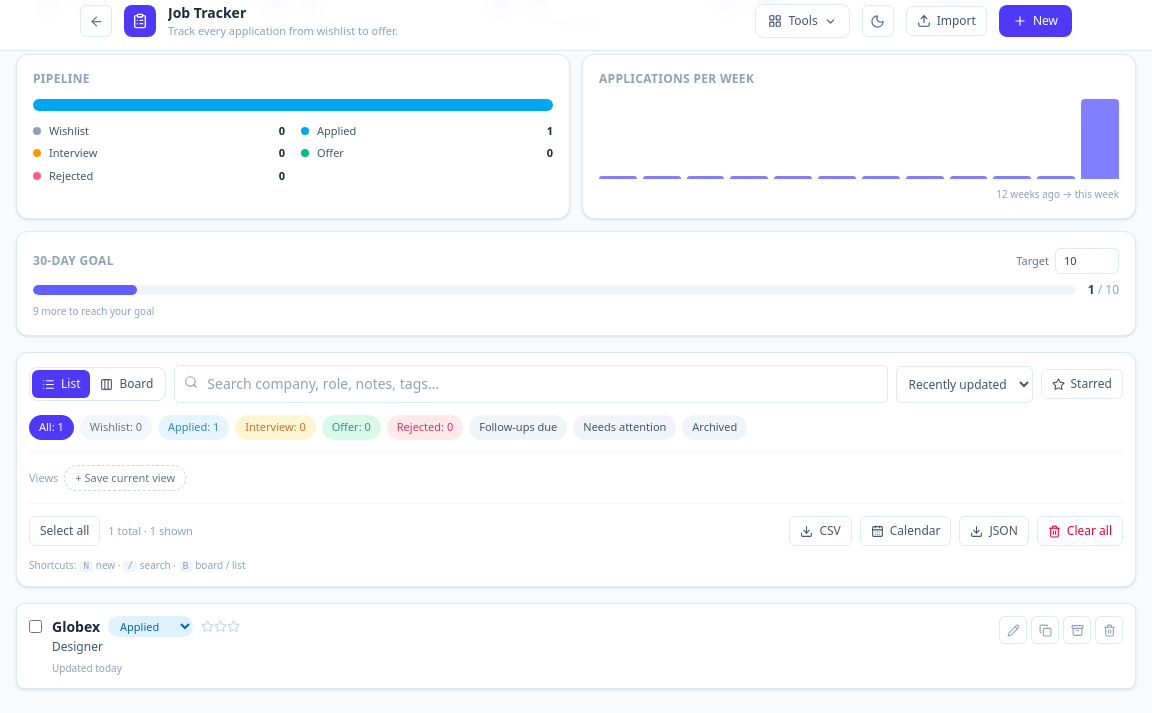
JobTrackerApp › logs a note to the timeline from the edit dialog
(page scrolled)
Click the button named "Edit Globex" at (1013, 630), box 999,616 -> 1027,644
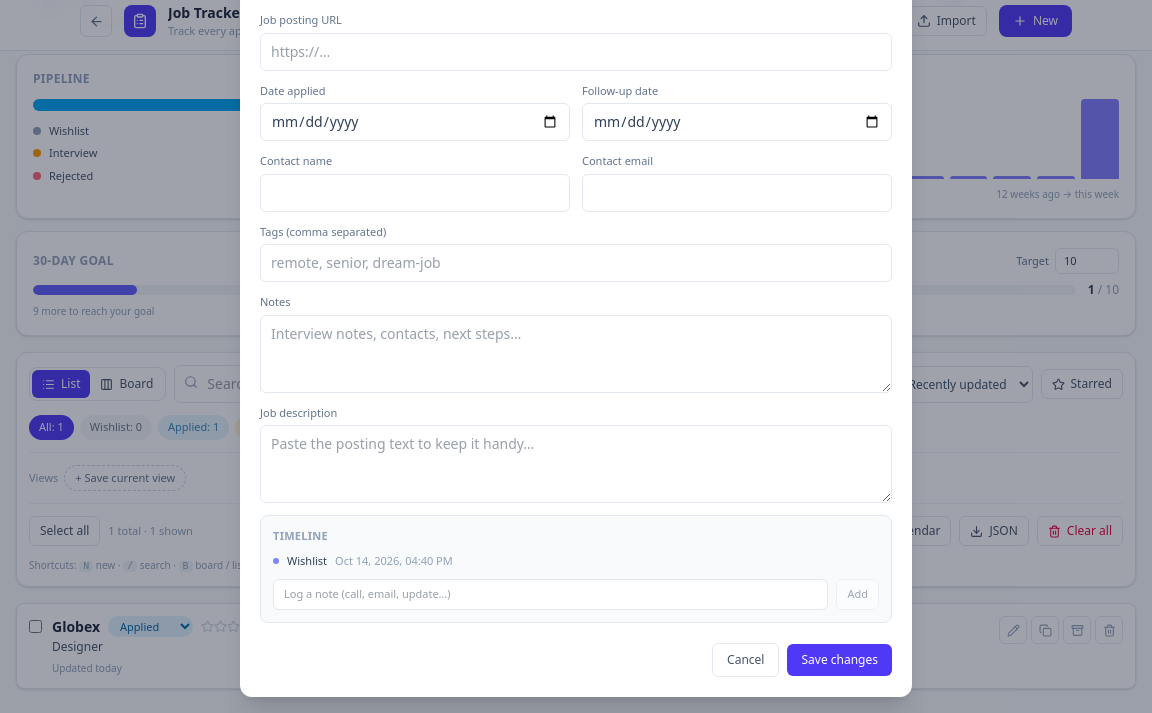
Type "Sent a follow-up email" into the field labelled "Log a note" at (551, 595), box 273,579 -> 828,610
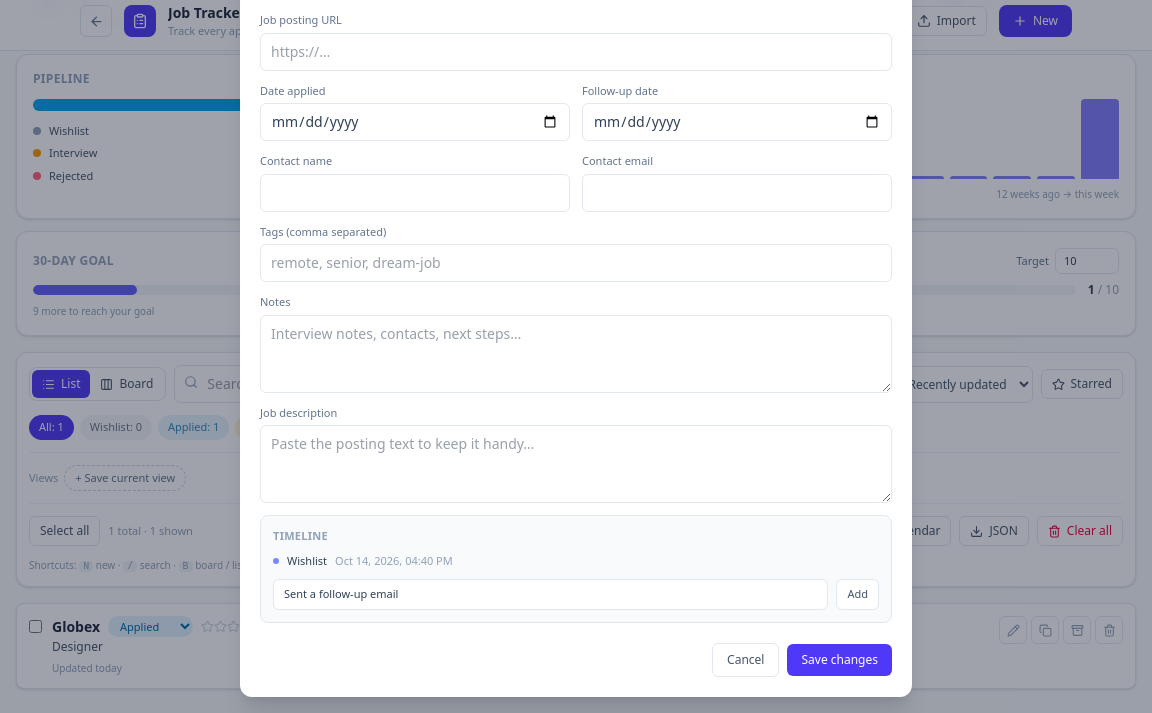
Click the button "Add" at (858, 595), box 836,579 -> 879,610
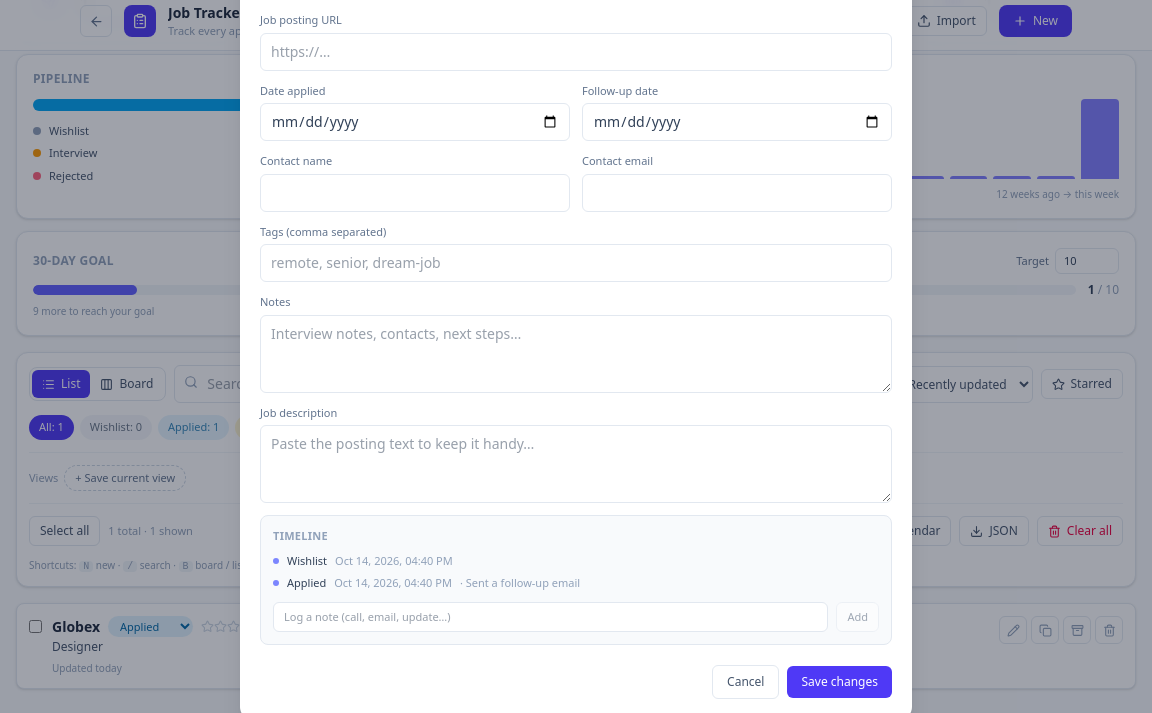
Check: the text "· Sent a follow-up email" is shown, box 460,575 -> 580,592
